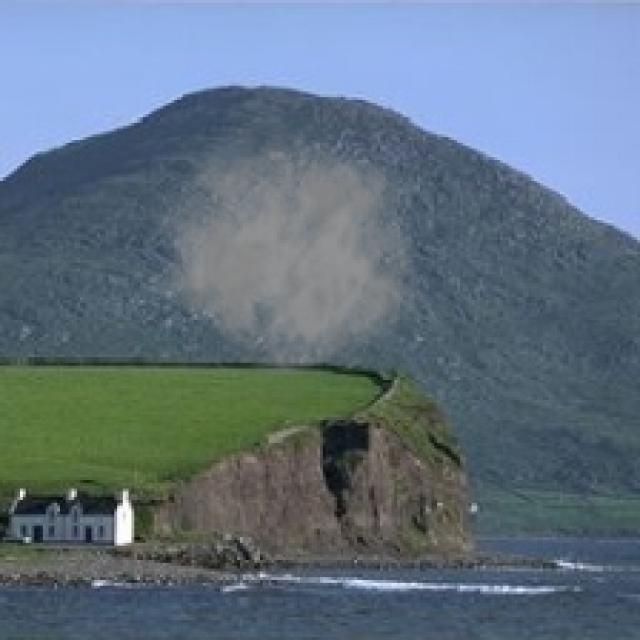smoke: (143, 112, 426, 377)
